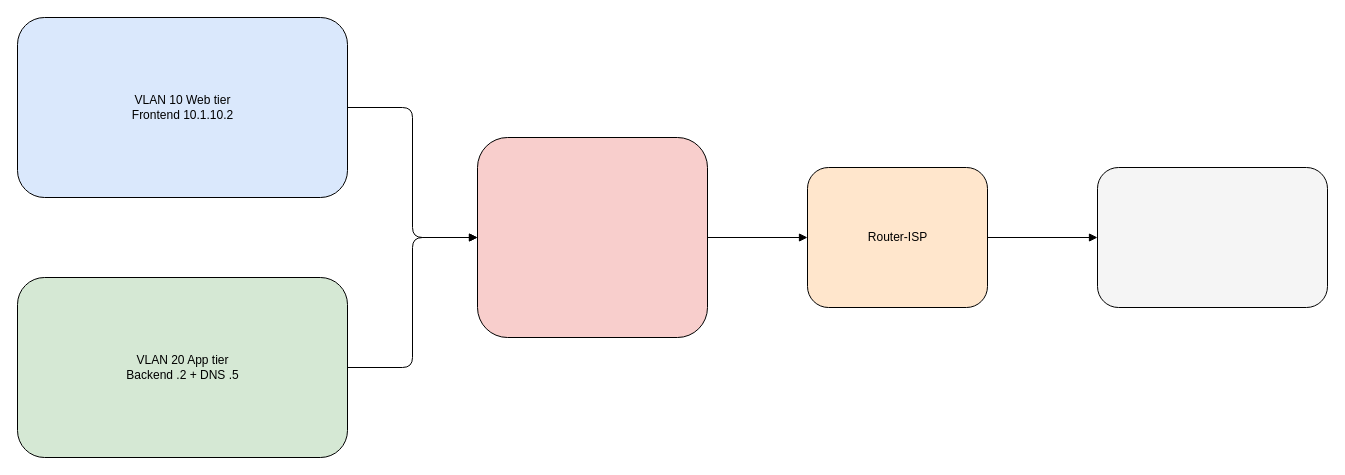
The diagram is 1345 pixels wide and 475 high, and some of its shapes have lost their labels. Each missing label, with the centre of its shape:
"Internet-Client 198.51.100.50" goes at (1212,237).
"Router-Edge ROAS + ACL + NAT" goes at (592,237).
